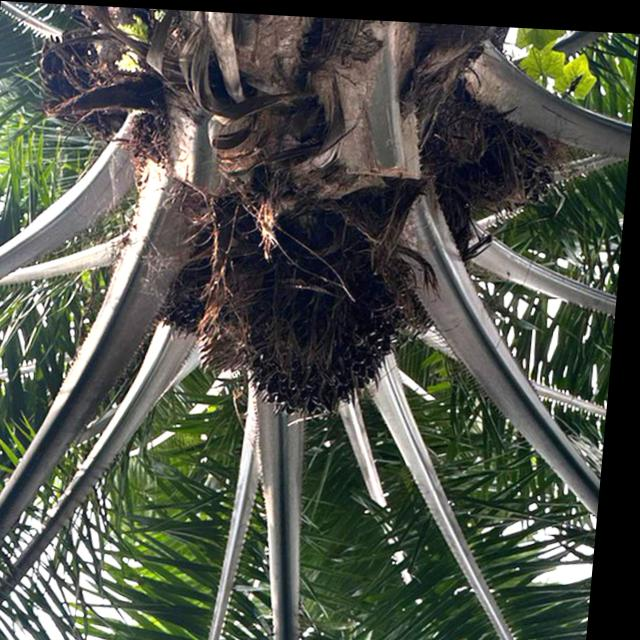ripe: (221, 219, 427, 434)
